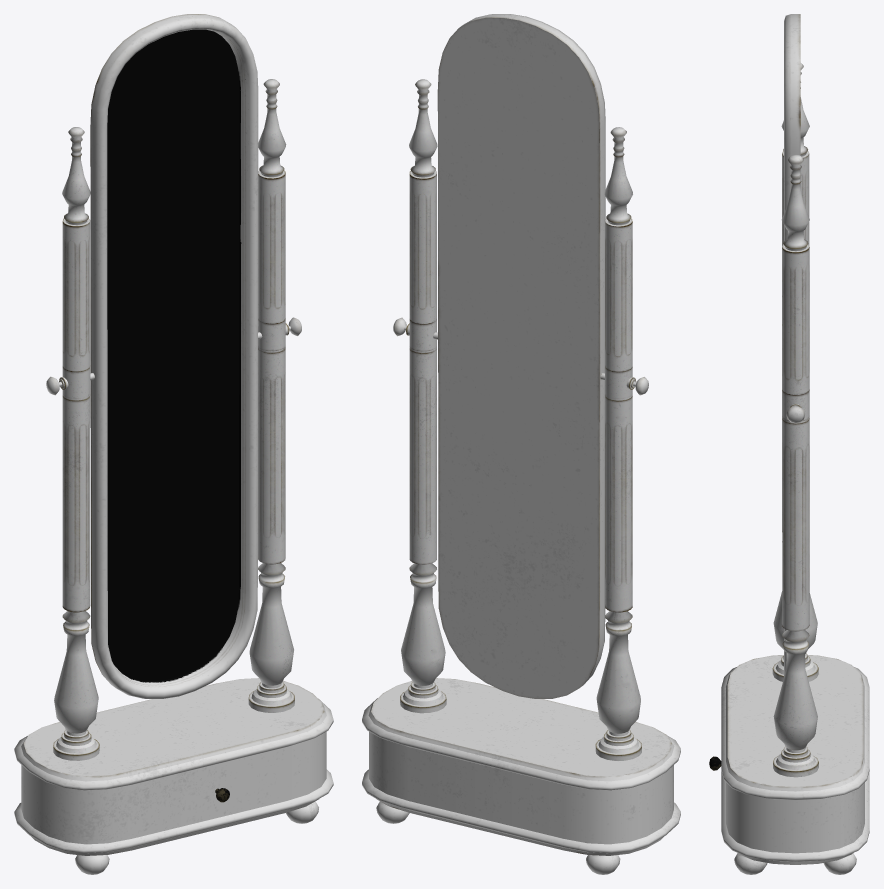
File: mirror_2.FBX
The picture shows the model from 3 angles, left to right: view 1: azimuth 30°, elevation 25°; view 2: azimuth 150°, elevation 25°; view 3: azimuth 270°, elevation 25°; orthographic projection.
Parts seen in each view (by area): view 1: Mirror; view 2: Mirror; view 3: Mirror.
Part boxes in pixels (box(x1,y1,x2,y2)): Mirror: box(14, 14, 333, 874); Mirror: box(362, 14, 680, 874); Mirror: box(709, 14, 869, 874).
Size of the model in its own units: 79.87 by 214 by 39.11.
Materials: 1 (1 with a texture image).
